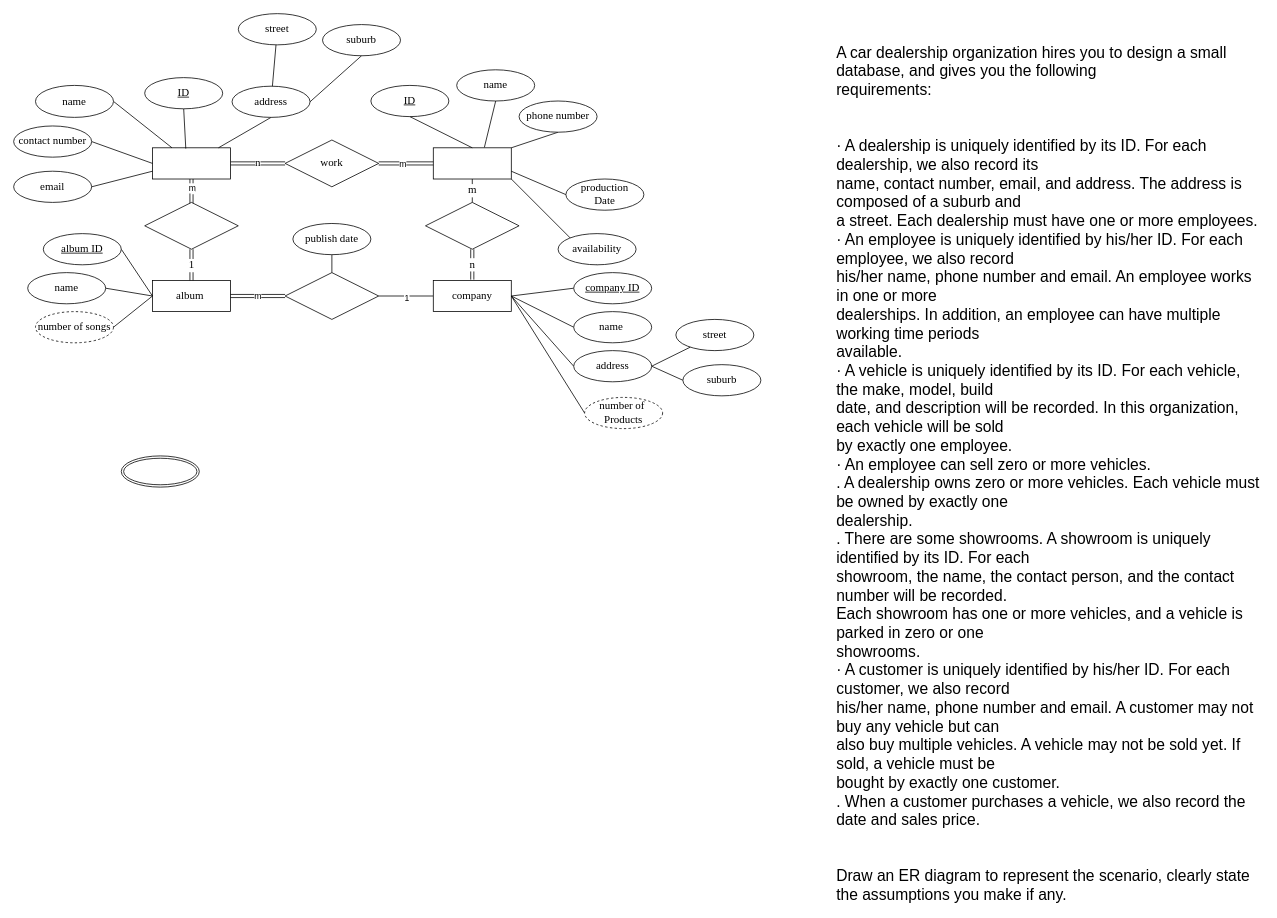
The diagram is 1277 pixels wide and 918 high, and some of its shapes have lost their labels. Here are the shapes that lost their labels. From the top down, the box of each, then its label:
(152, 147, 230, 179): dealership
(433, 147, 511, 179): employee
(144, 202, 238, 249): have
(425, 202, 519, 249): join
(284, 272, 379, 319): publishes
(121, 455, 199, 487): genres
